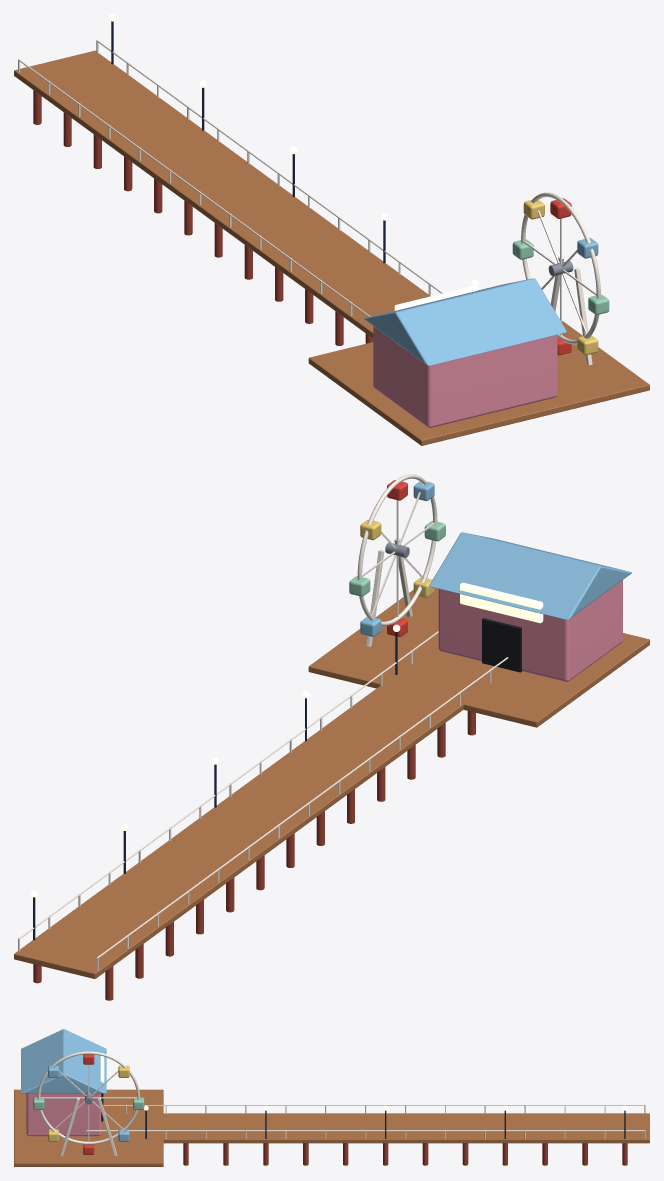
The model's file is pier.glb.
3 renders of one model, top to bottom at view 1: azimuth 30°, elevation 25°; view 2: azimuth 150°, elevation 25°; view 3: azimuth 270°, elevation 25°, orthographic. The views are drawn at different scales.
Visible parts, largest first — view 1: pier.003, wheel.003, legs; view 2: pier.003, wheel.003, legs; view 3: pier.003, wheel.003, legs.
Part boxes in pixels (left/top/right/bottom): pier.003: left=14, top=14, right=649, bottom=445; wheel.003: left=512, top=192, right=609, bottom=355; legs: left=550, top=256, right=592, bottom=365; pier.003: left=14, top=532, right=649, bottom=1000; wheel.003: left=349, top=474, right=445, bottom=636; legs: left=366, top=538, right=412, bottom=646; pier.003: left=14, top=1029, right=649, bottom=1166; wheel.003: left=33, top=1051, right=144, bottom=1154; legs: left=60, top=1097, right=117, bottom=1155.
Bounding box in the file's own units: 14 × 11.32 × 51.
Materials: 1 (1 with a texture image).
